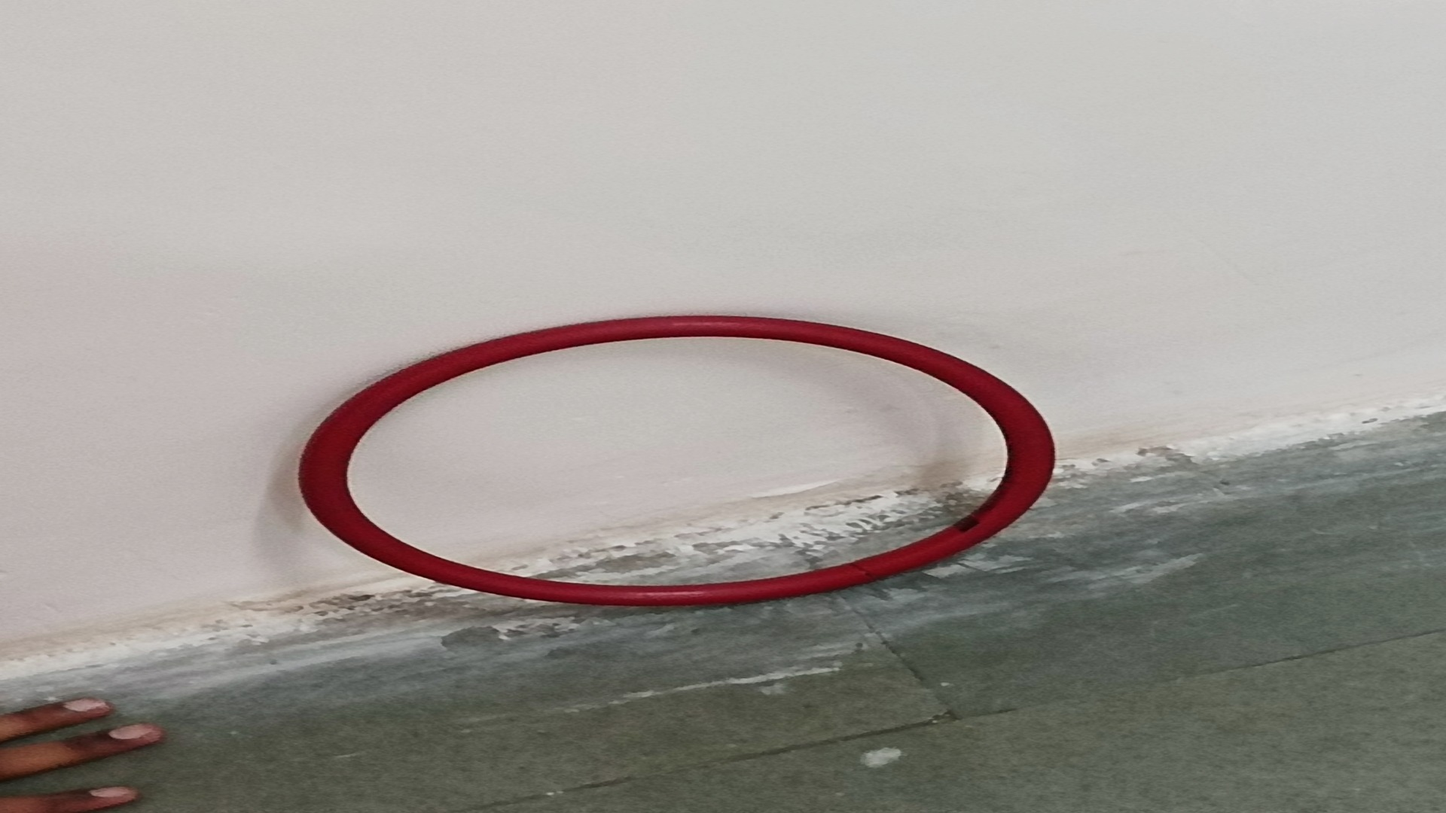Red ring: (299, 315, 1054, 602)
